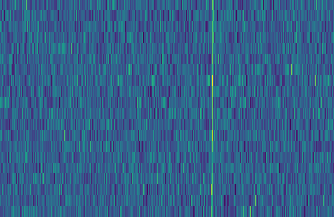signal: (207, 0, 217, 217)
